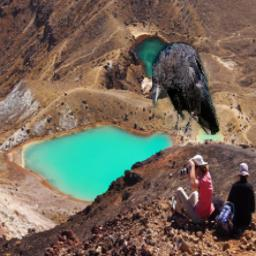Crow: (151, 42, 219, 135)
